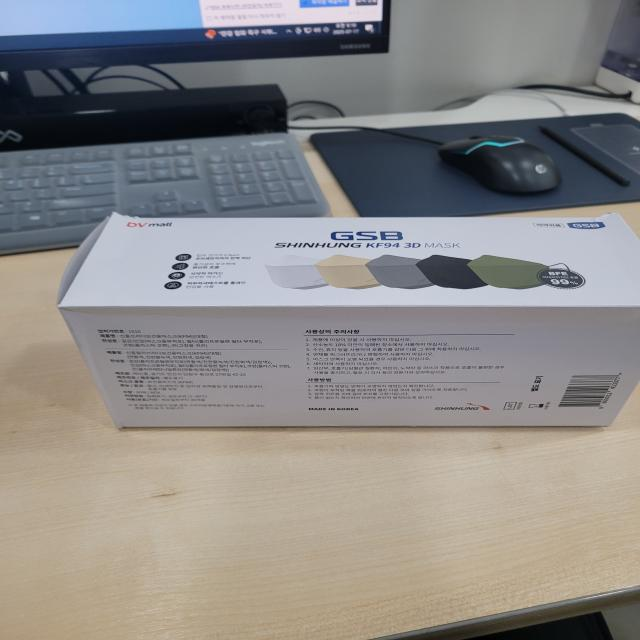mask: (33, 200, 640, 471)
